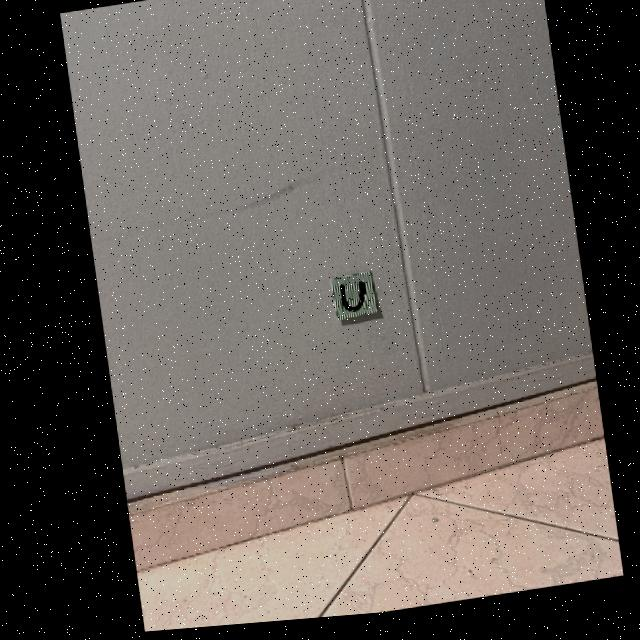U: (335, 286, 360, 317)
